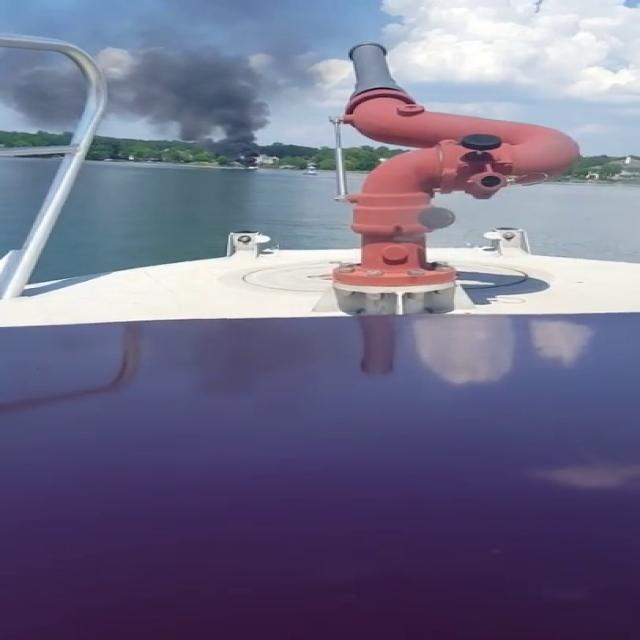Smoke: (0, 18, 288, 147)
